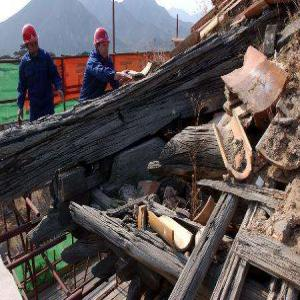red: (93, 27, 110, 59), (23, 23, 40, 54)
